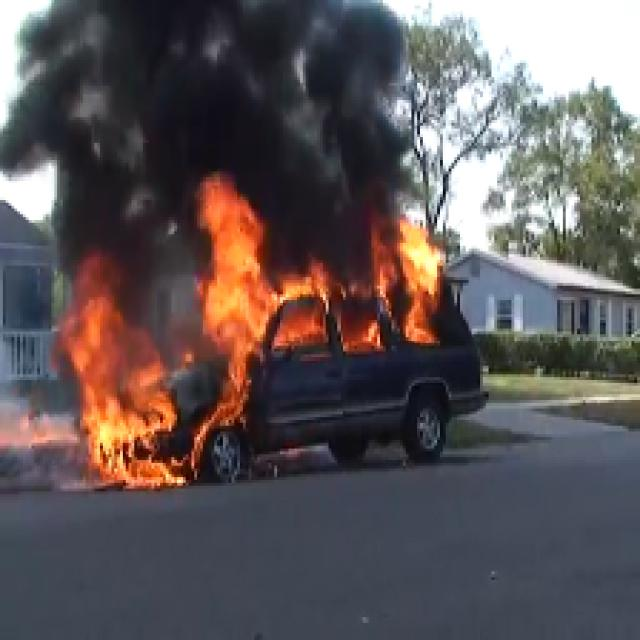fire: (63, 274, 173, 492), (277, 221, 443, 353), (201, 178, 272, 444)
smoke: (6, 0, 410, 175)
